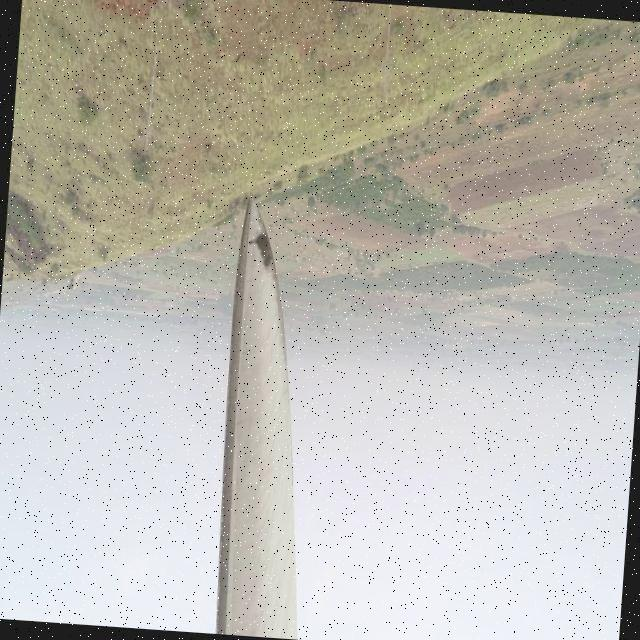Dirt: (215, 203, 292, 632)
Oil LEAKAGE: (256, 232, 275, 268)
Pin Hole: (246, 236, 256, 248)
